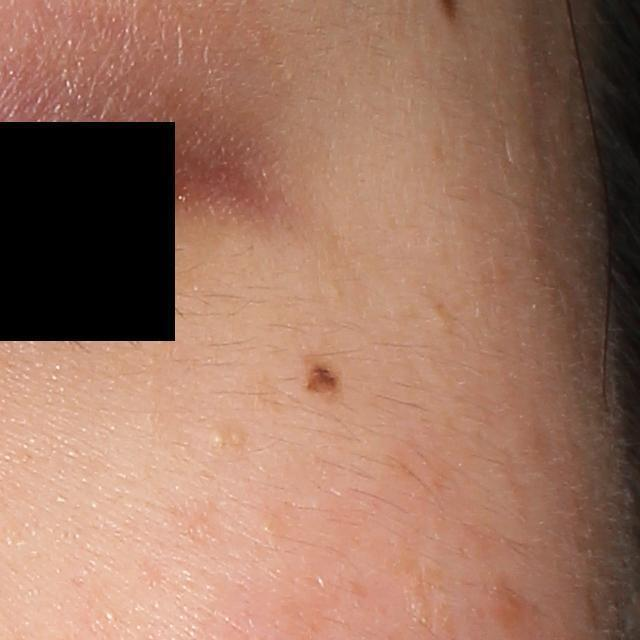melasma: (484, 572, 543, 637), (164, 501, 217, 546)
nevus: (301, 360, 350, 400)
